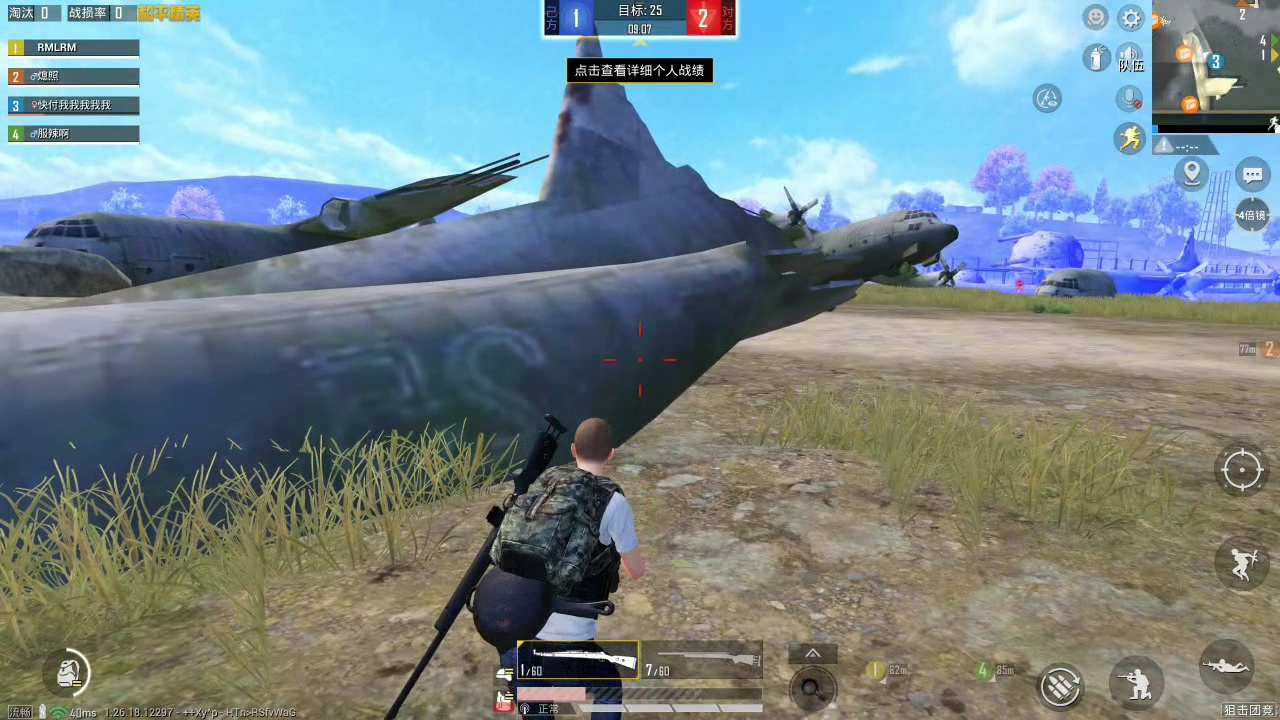enemy: (1015, 279, 1024, 294)
